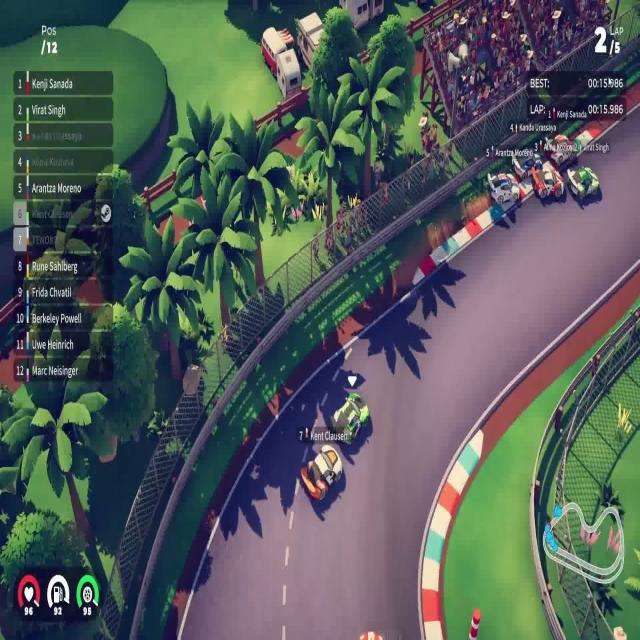car: (300, 443, 343, 502), (330, 391, 370, 446), (566, 164, 600, 202), (487, 171, 523, 203), (531, 164, 564, 198), (544, 133, 580, 162), (512, 146, 542, 170)
